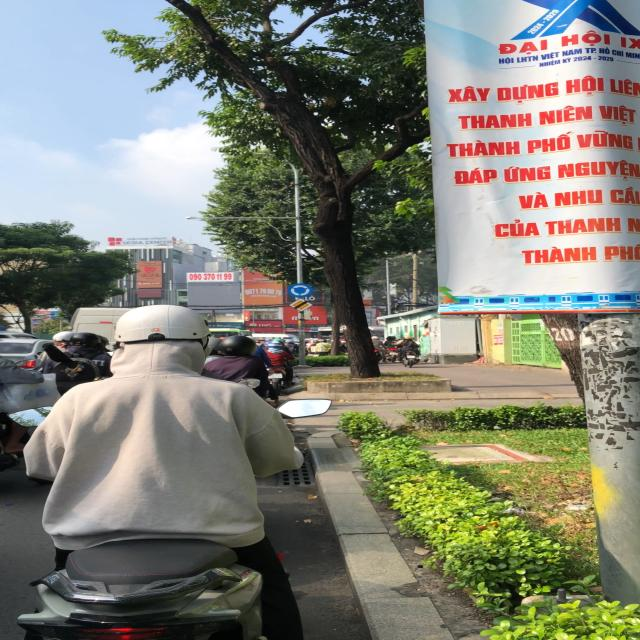Bien bao noi giao nhau chay theo vong xuyen: (284, 281, 316, 298)
